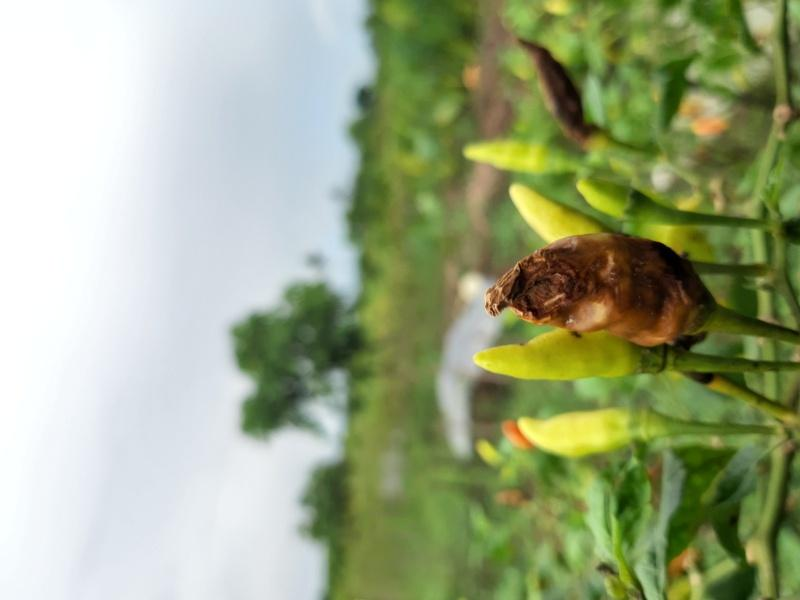antraknosa: (481, 230, 708, 343), (521, 38, 588, 142)
cabai_normal: (470, 328, 648, 381), (516, 408, 634, 455), (508, 184, 601, 240), (578, 177, 632, 210)
